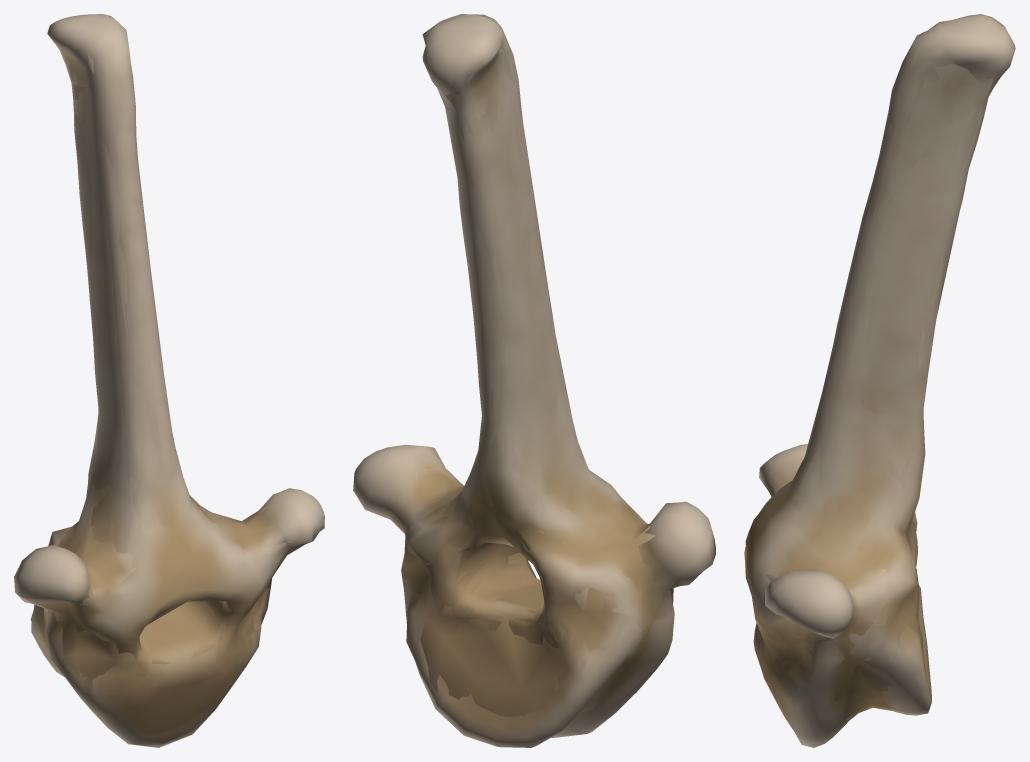
Rendered from vertebrae thoracicae 05.fbx.
3 views of the same model, side by side, from view 1: azimuth 30°, elevation 25°; view 2: azimuth 150°, elevation 25°; view 3: azimuth 270°, elevation 25° (orthographic). The views are drawn at different scales.
Visible parts, largest first — view 1: vertebrae thoracicae 05, vertebrae thoracicae 05 low; view 2: vertebrae thoracicae 05, vertebrae thoracicae 05 low; view 3: vertebrae thoracicae 05, vertebrae thoracicae 05 low.
Part boxes in pixels (x1=…): vertebrae thoracicae 05: x1=14, y1=14, x2=324, y2=747; vertebrae thoracicae 05 low: x1=32, y1=31, x2=305, y2=730; vertebrae thoracicae 05: x1=353, y1=14, x2=715, y2=747; vertebrae thoracicae 05 low: x1=389, y1=21, x2=678, y2=716; vertebrae thoracicae 05: x1=744, y1=14, x2=1015, y2=747; vertebrae thoracicae 05 low: x1=754, y1=27, x2=1000, y2=720.
Size of the model in its own units: 10.55 by 22.31 by 7.66.
1 material, 1 textured.
